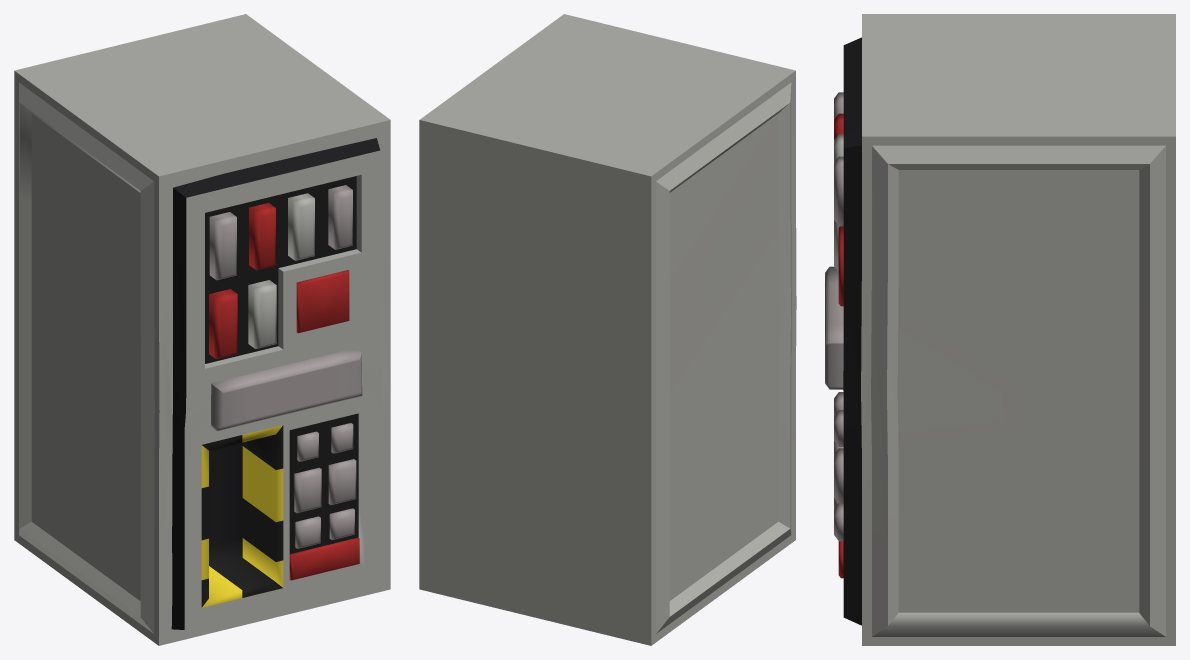
File: fuseBox.fbx
3 renders of one model, left to right at view 1: azimuth 30°, elevation 25°; view 2: azimuth 150°, elevation 25°; view 3: azimuth 270°, elevation 25°, orthographic. The views are drawn at different scales.
Parts seen in each view (by area): view 1: fuseBox; view 2: fuseBox; view 3: fuseBox.
Part boxes in pixels (bbox=[...]): fuseBox: bbox=[14, 14, 390, 645]; fuseBox: bbox=[419, 14, 796, 645]; fuseBox: bbox=[825, 14, 1175, 645].
Bounding box in the file's own units: 179 × 327 × 204.
